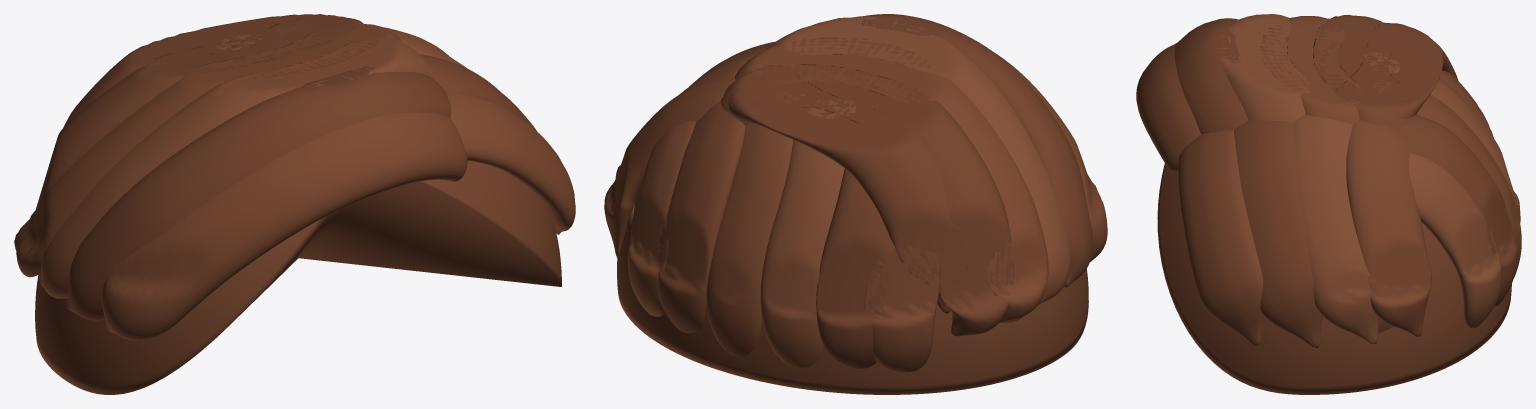
Rendered from Masculine-sidepart-bucket251-hair.glb.
3 renders of one model, left to right at view 1: azimuth 30°, elevation 25°; view 2: azimuth 150°, elevation 25°; view 3: azimuth 270°, elevation 25°, orthographic. The views are drawn at different scales.
Visible parts, largest first — view 1: 226 hair / Hair / sculpted 0.002, 226 hair / Hair / sculpted 1.003, 226 hair / Hair / sculpted 1, 226 hair / Hair / sculpted 2.002; view 2: 226 hair / Hair / sculpted 1.003, 226 hair / Hair / sculpted 0.002, 226 hair / Hair / sculpted 2.002, 226 hair / Hair / sculpted 1; view 3: 226 hair / Hair / sculpted 0.002, 226 hair / Hair / sculpted 1.003, 226 hair / Hair / sculpted 2.002, 226 hair / Hair / sculpted 1.
Part boxes in pixels (x1,y1,x2,y2): 226 hair / Hair / sculpted 0.002: (16, 23, 575, 340); 226 hair / Hair / sculpted 1.003: (14, 14, 537, 320); 226 hair / Hair / sculpted 1: (35, 160, 561, 394); 226 hair / Hair / sculpted 2.002: (41, 34, 466, 298); 226 hair / Hair / sculpted 1.003: (625, 14, 1092, 368); 226 hair / Hair / sculpted 0.002: (604, 37, 1107, 372); 226 hair / Hair / sculpted 2.002: (615, 15, 1071, 368); 226 hair / Hair / sculpted 1: (617, 193, 1088, 394); 226 hair / Hair / sculpted 0.002: (1136, 16, 1521, 346); 226 hair / Hair / sculpted 1.003: (1174, 15, 1517, 348); 226 hair / Hair / sculpted 2.002: (1216, 14, 1520, 344); 226 hair / Hair / sculpted 1: (1157, 163, 1511, 394).
Bounding box in the file's own units: 0.9751 × 0.5369 × 0.761.
